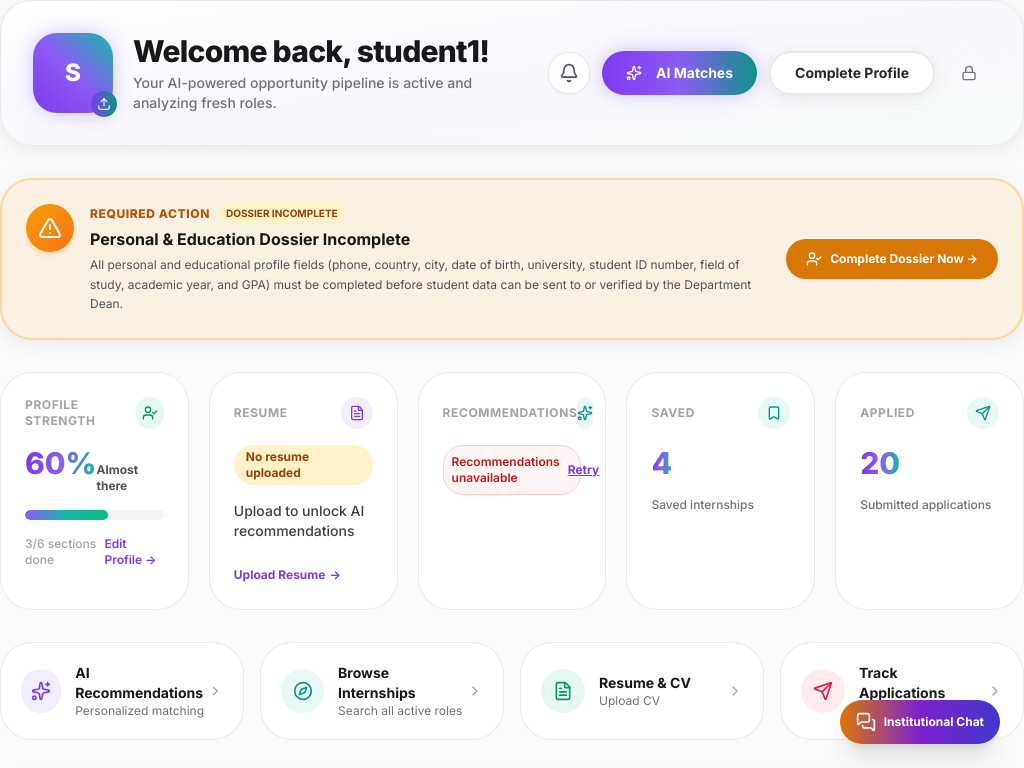
Test case: StudentDashboard › shows a localized error for the recommendations count and retries on demand
Expected: the text "Recommendations unavailable" is shown, [452,454,560,486]
Expected: the text "60%" is shown, [25,444,96,480]
Note: Retrying refetches and restores the section.
Click the button "Retry" at (584, 470), box [568,462,599,478]
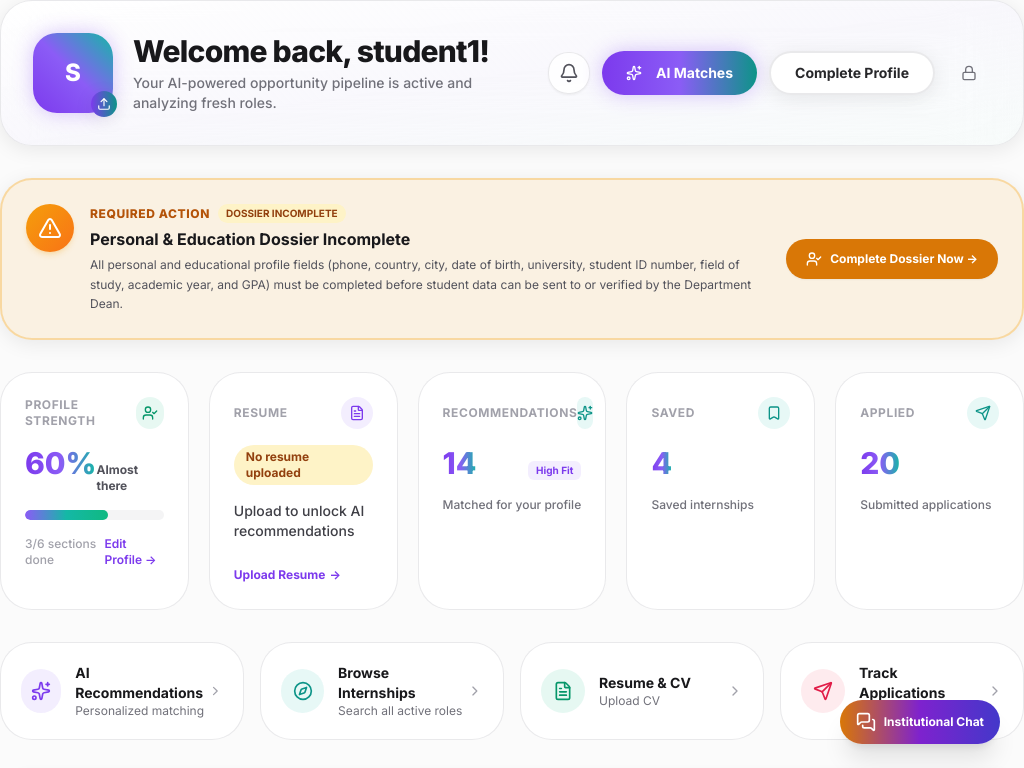
Now the text "14" is shown, box [443,444,476,480]
Now the text "Recommendations unavailable" is gone
